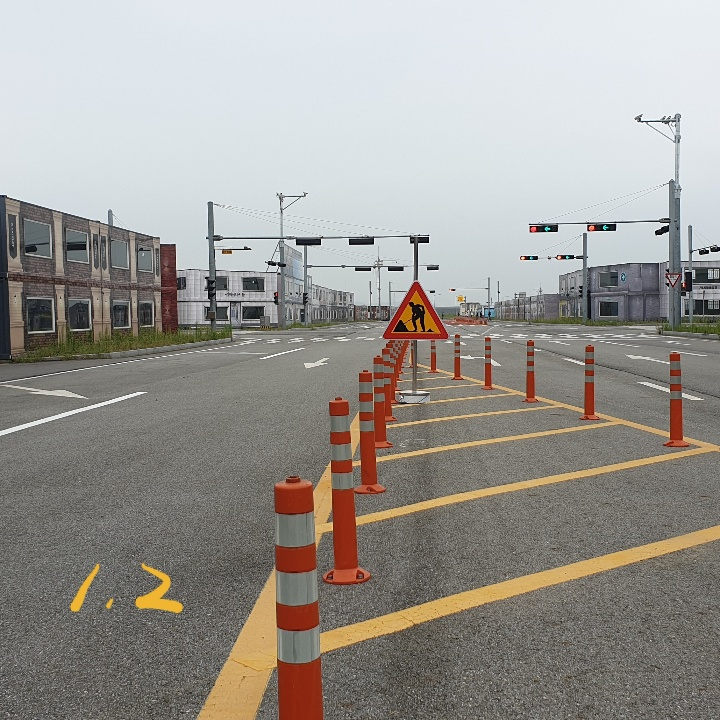const: (391, 296, 440, 334)
